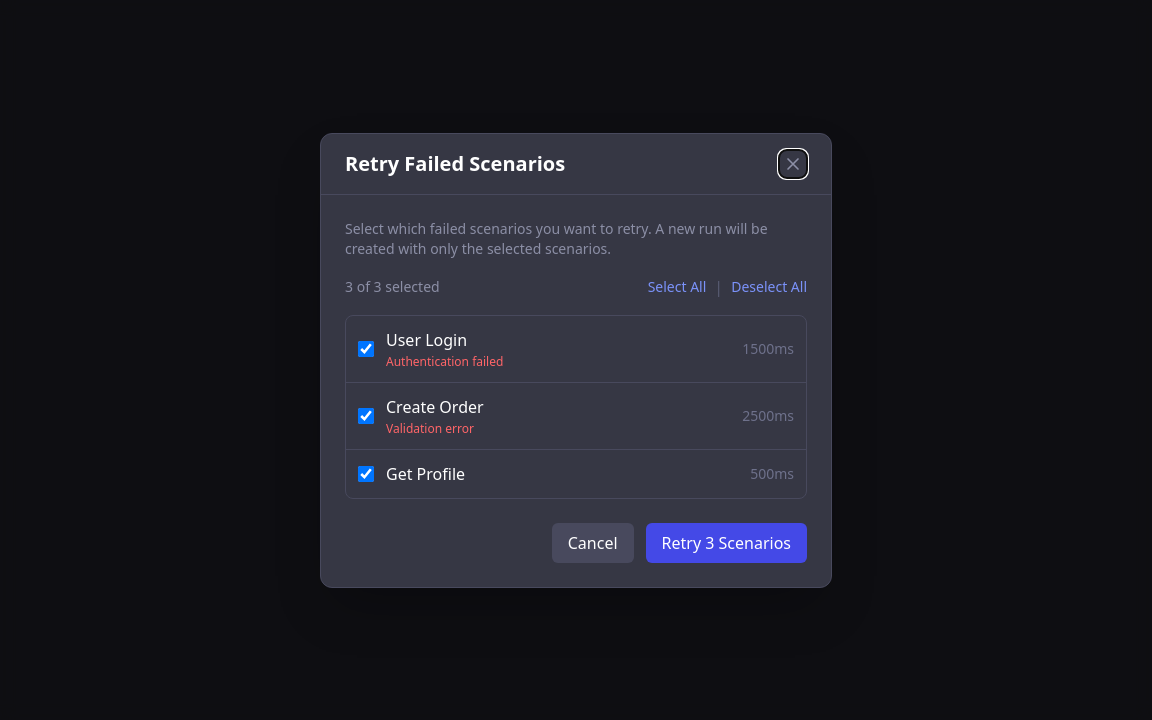
Test: RetryFailedDialog › toggles individual scenario selection
The image size is (1152, 720).
Click the checkbox labelled "User Login Authentication failed 1500ms".
click(366, 348)  # box [358,340,374,356]
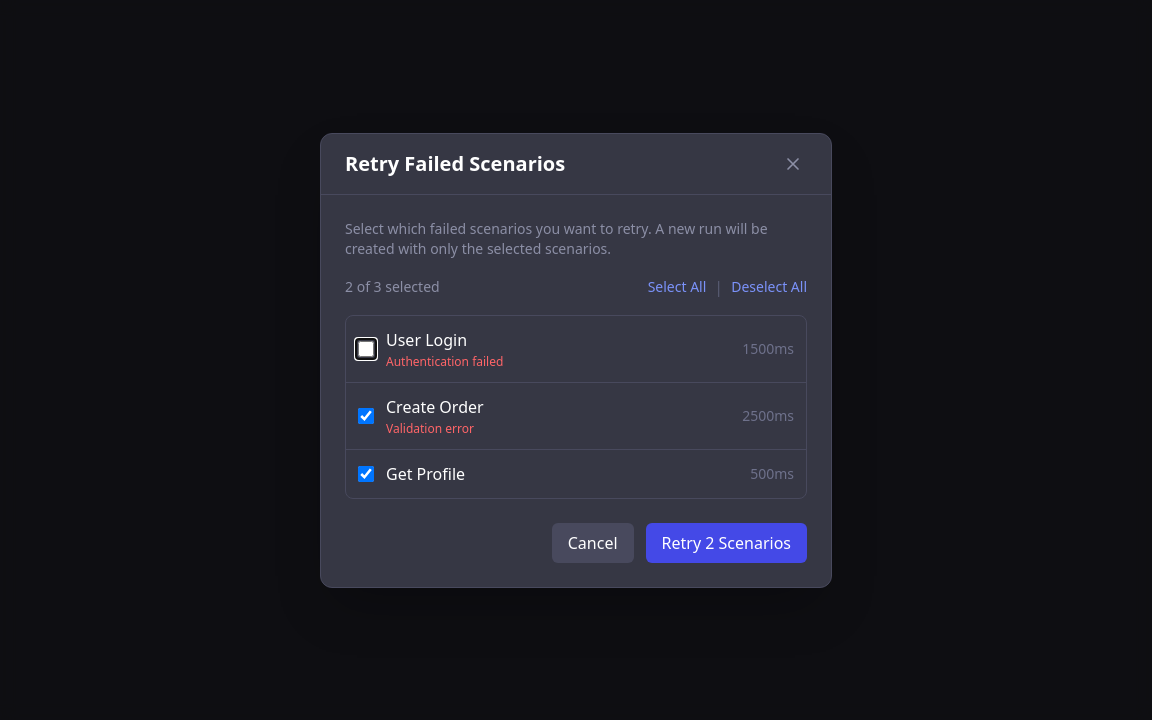
Check: the checkbox labelled "User Login Authentication failed 1500ms" is not checked, box [358,340,374,356]
Check: the text "2 of 3 selected" is shown, box [345,276,440,296]
